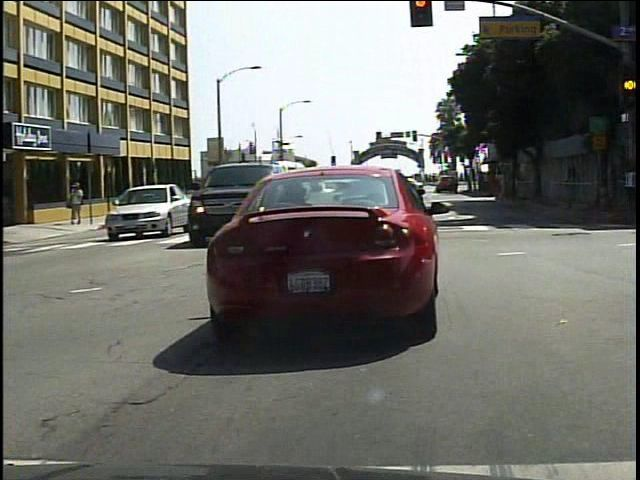person: (68, 178, 91, 226)
